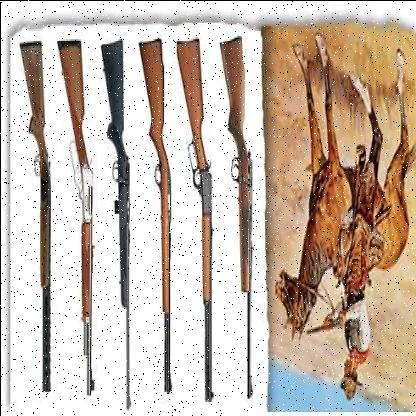rifle: (216, 30, 260, 408), (170, 32, 214, 409), (53, 27, 96, 409), (14, 33, 56, 404), (135, 31, 176, 402), (99, 30, 134, 413)
